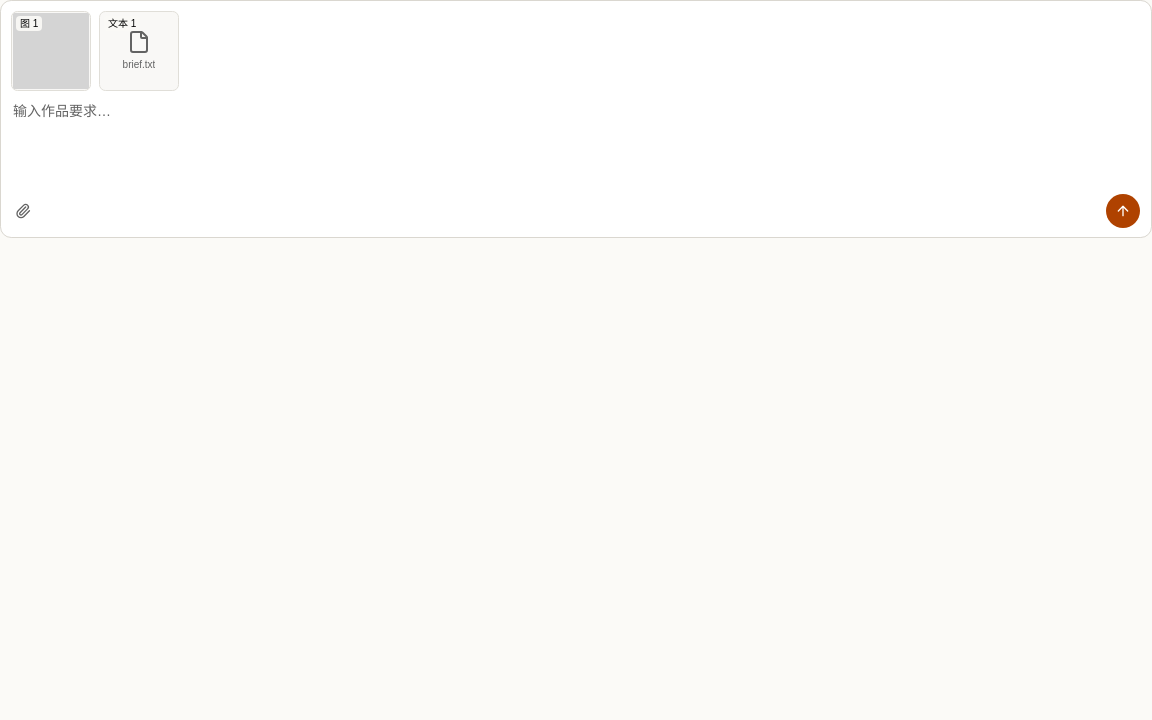
AgentPromptInput › opens local and inherited attachment previews without stealing row actions
The width and height of the screenshot is (1152, 720).
Click the button named "预览 local.png" at (51, 51), box [12,12,90,90]
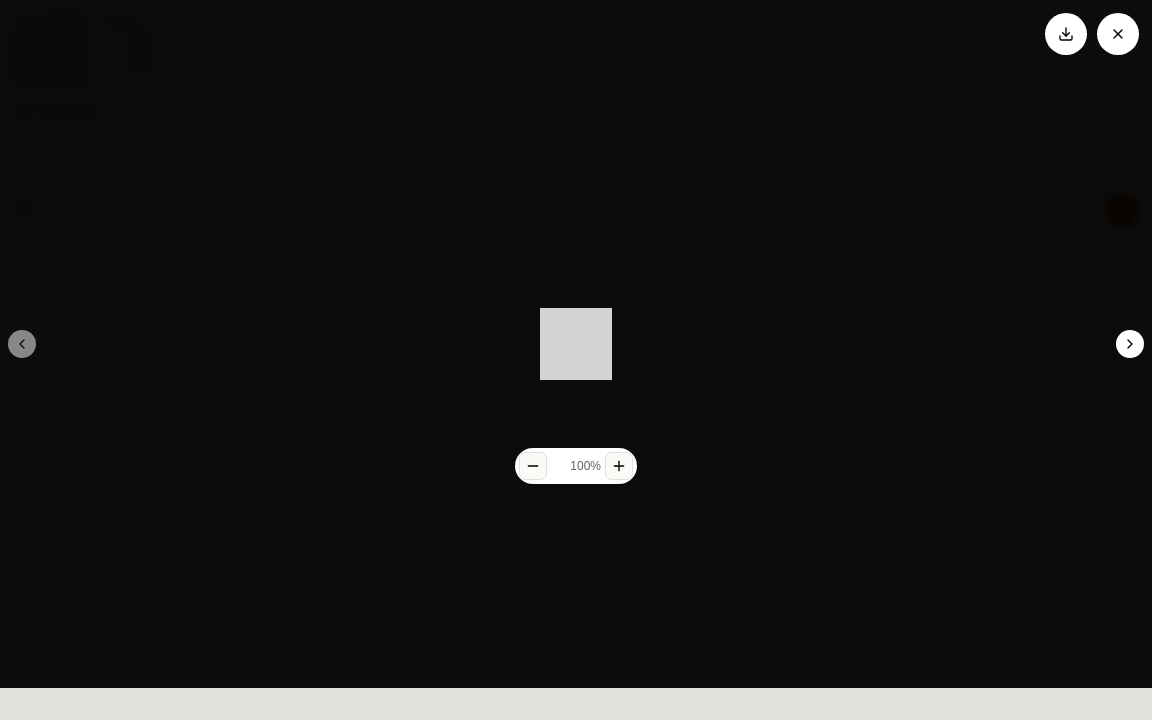
Click the button named "关闭附件预览" at (1118, 34), box [1096,12,1140,56]
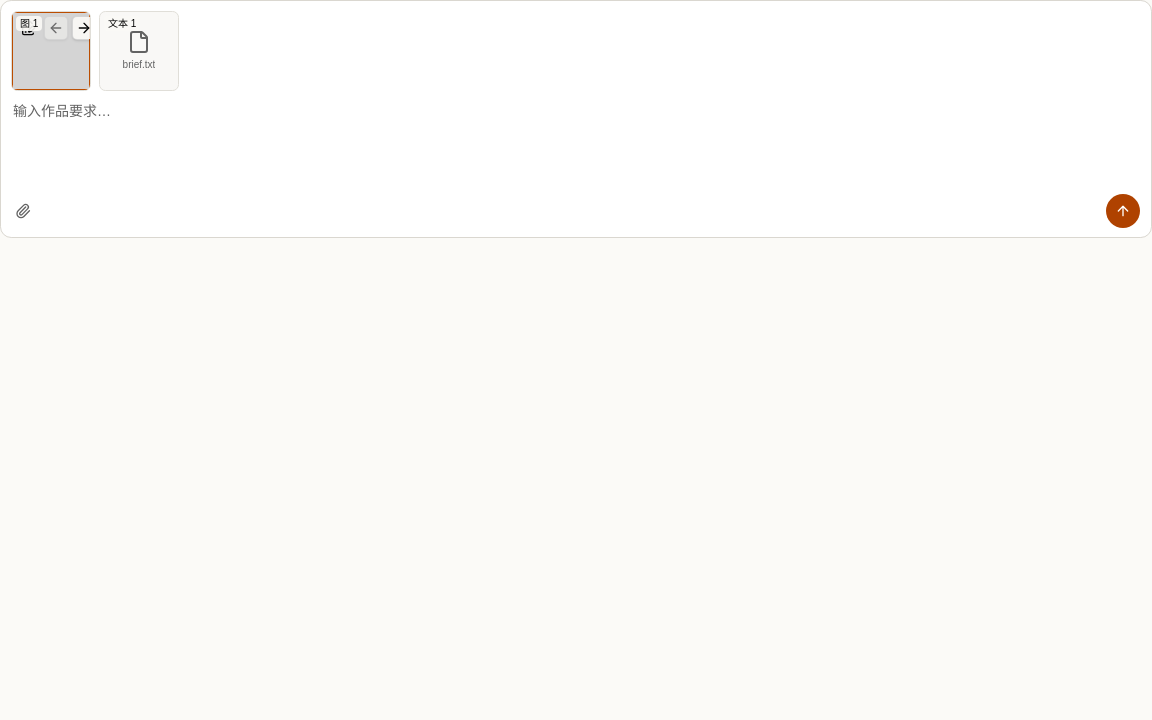
Result: the dialog is gone
Click the button with aria-label "预览 brief.txt" at (139, 51), box [100,12,178,90]
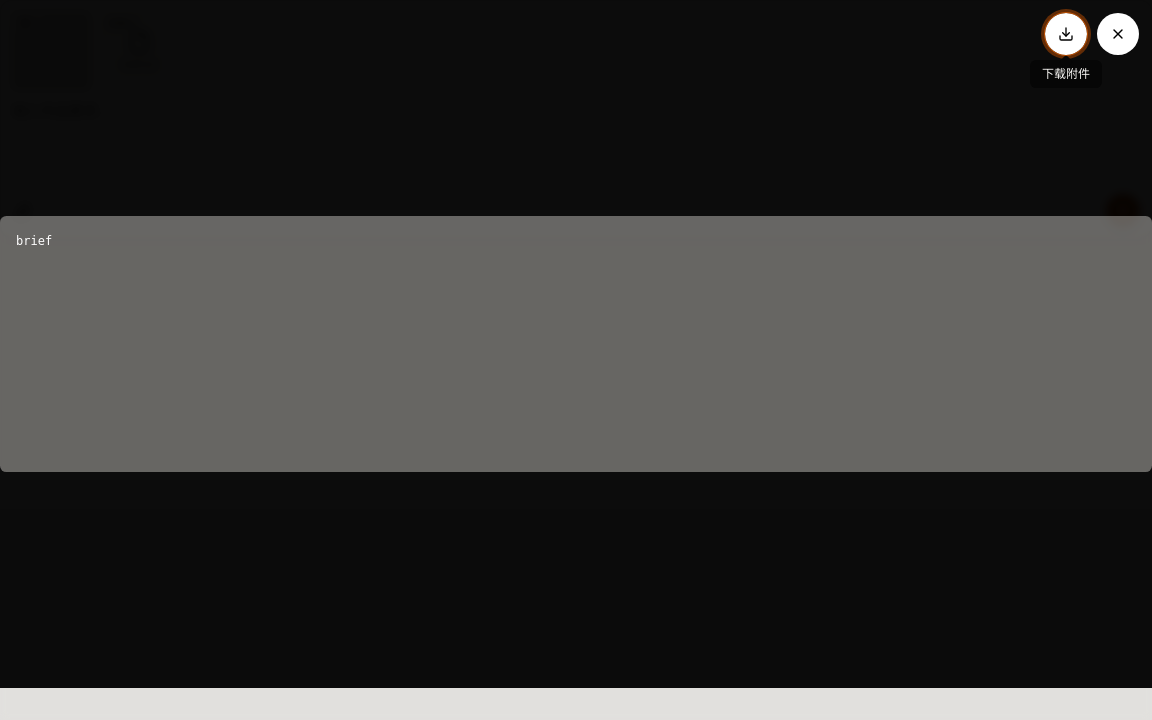
Result: the text with test id "attachment-text-preview" reads "brief" at [16,234,52,248]
